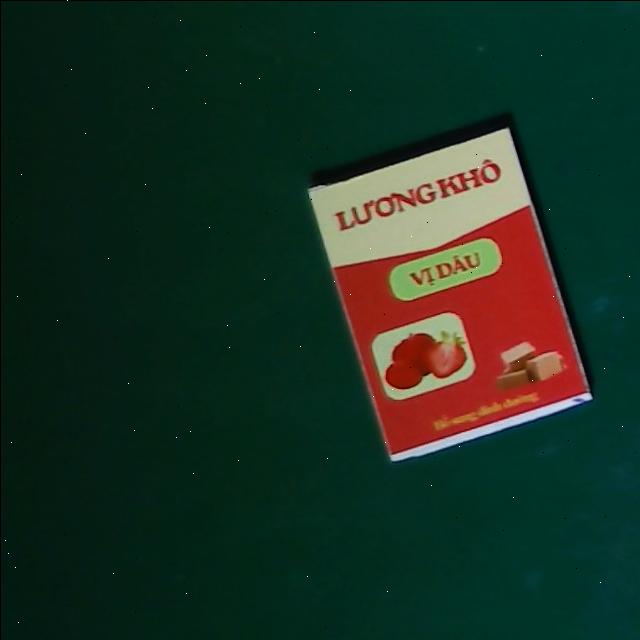dau: (304, 124, 594, 464)
